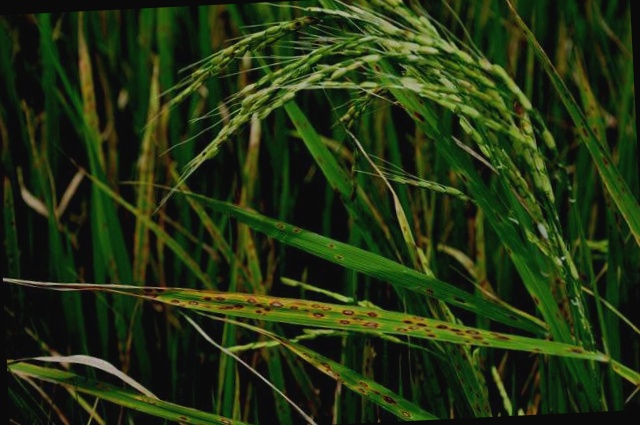Bacterial_Leaf_Blight: (269, 217, 305, 236), (309, 303, 331, 318), (329, 179, 346, 196), (563, 343, 588, 354), (486, 330, 511, 341), (455, 167, 471, 183), (352, 383, 375, 394), (313, 360, 332, 372), (611, 185, 626, 200), (268, 296, 284, 310), (446, 293, 467, 303), (419, 283, 435, 296), (250, 303, 266, 316), (409, 110, 425, 122), (530, 294, 543, 308), (243, 294, 259, 305), (223, 302, 239, 313), (463, 328, 481, 337), (381, 395, 397, 405), (599, 153, 610, 167), (366, 309, 384, 317), (340, 307, 355, 316), (581, 124, 591, 137), (414, 320, 431, 327), (585, 103, 594, 116), (473, 390, 482, 402), (506, 314, 519, 322), (425, 332, 437, 340), (436, 323, 451, 329), (474, 403, 482, 414), (334, 253, 345, 261), (462, 335, 471, 344), (533, 345, 543, 353), (405, 317, 415, 325), (506, 241, 512, 254), (326, 243, 339, 249), (553, 309, 560, 319), (564, 91, 571, 100), (461, 351, 467, 360), (459, 376, 466, 383)
